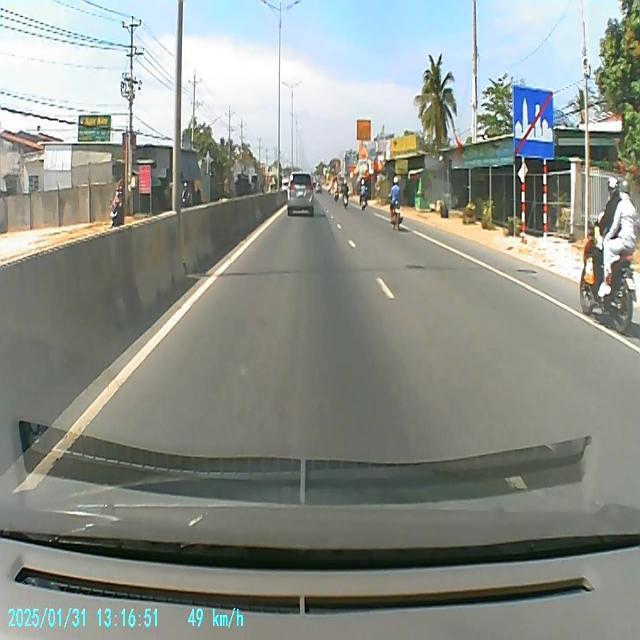421-ket-thuc-khu-dong-dan-cu: (512, 84, 555, 162)
